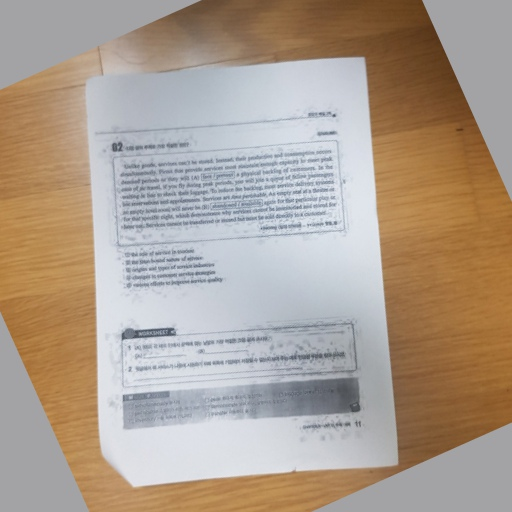Paper_2: (75, 52, 411, 491)
